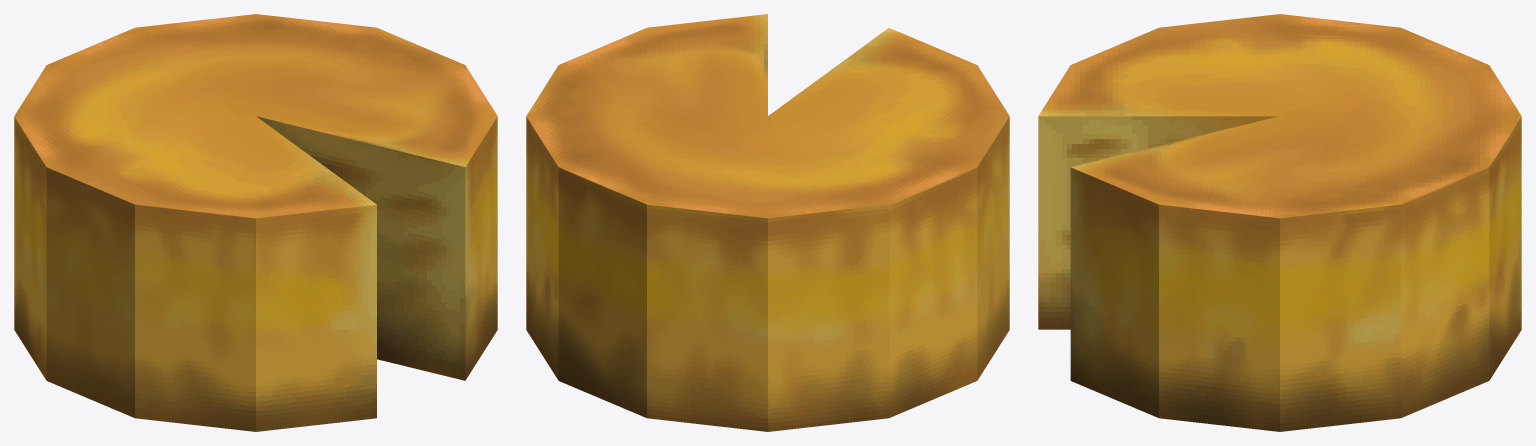
The model's file is tavern_cheese.glb.
3 renders of one model, left to right at view 1: azimuth 30°, elevation 25°; view 2: azimuth 150°, elevation 25°; view 3: azimuth 270°, elevation 25°, orthographic.
Visible parts, largest first — view 1: tavern_cheese; view 2: tavern_cheese; view 3: tavern_cheese.
Boxes of the visible parts, bbox=[...] form: tavern_cheese: bbox=[14, 14, 497, 431]; tavern_cheese: bbox=[526, 14, 1009, 431]; tavern_cheese: bbox=[1038, 14, 1521, 431].
Bounding box in the file's own units: 0.5921 × 0.2886 × 0.5921.
1 material, 1 textured.
